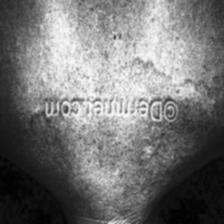Toxin: (118, 140, 146, 164), (59, 138, 84, 162)
